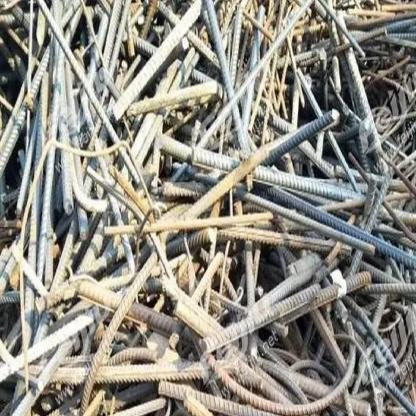rebar: (2, 5, 415, 411)
